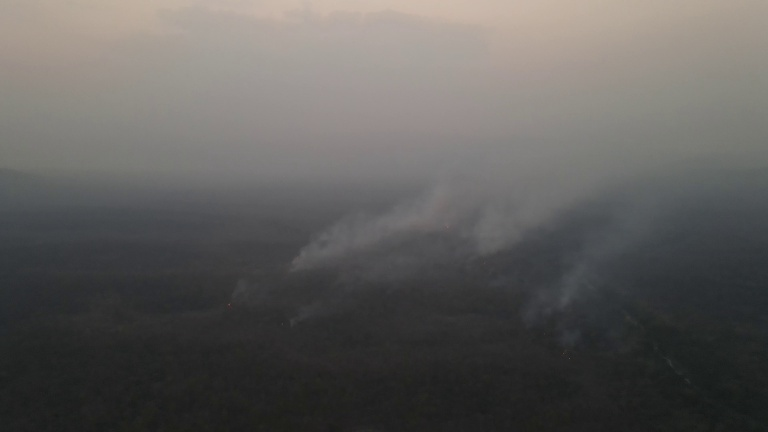smoke: (284, 140, 627, 335), (223, 276, 255, 312)
